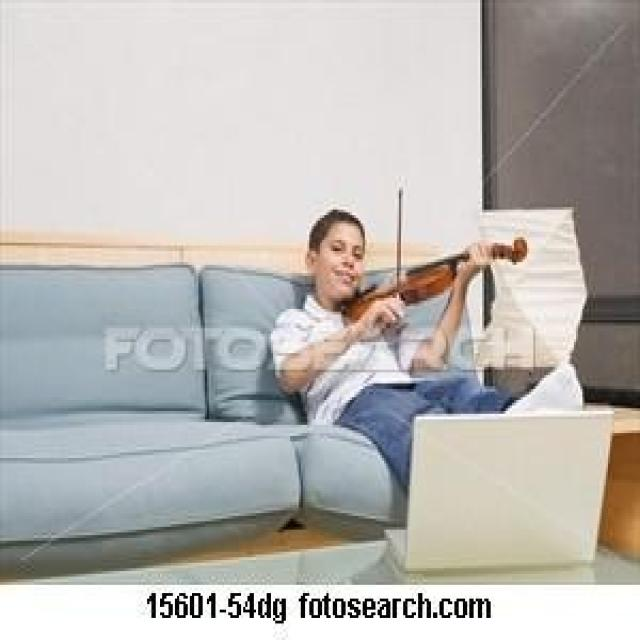violin: (348, 232, 529, 328)
